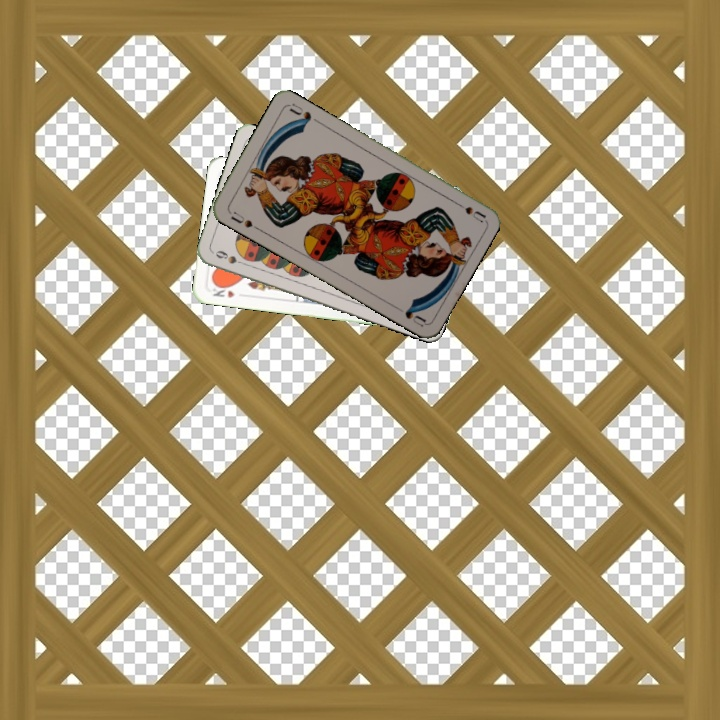HK: (208, 280, 237, 300)
S9: (211, 246, 250, 268)
SU: (449, 196, 487, 225), (225, 207, 262, 233)
